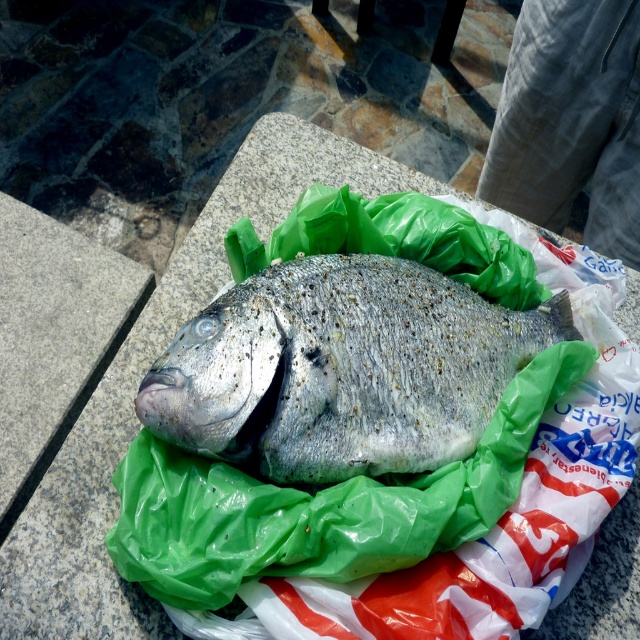Fish: (124, 273, 562, 527)
